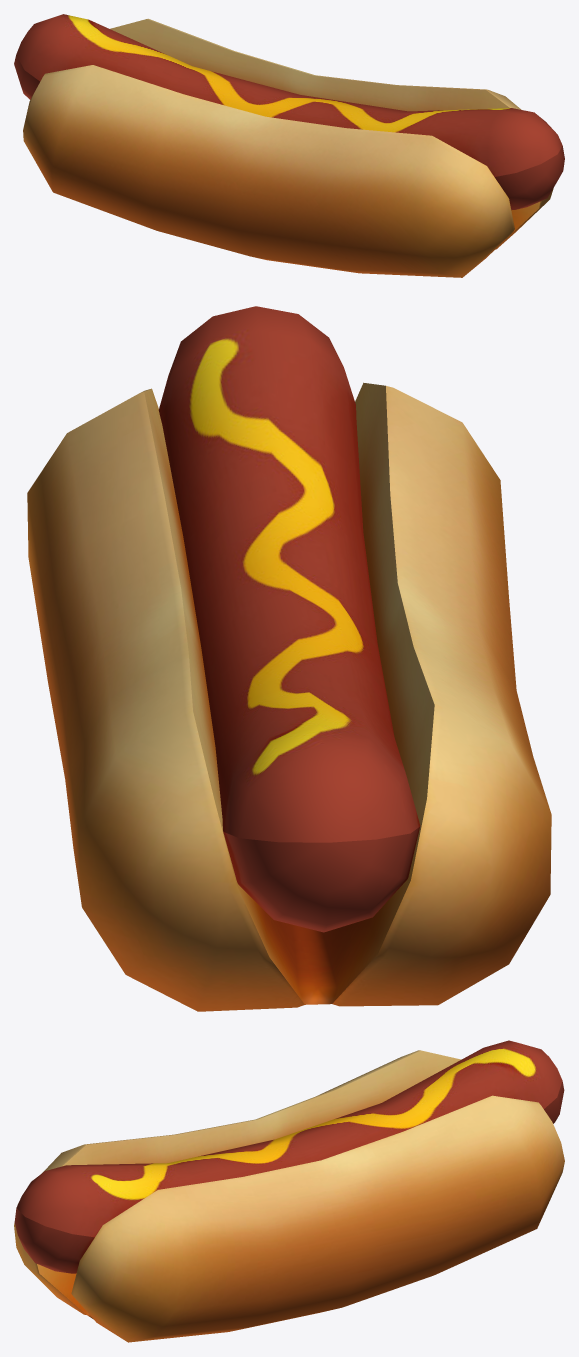
The model's file is Hot Dog.fbx.
3 views of the same model, one above another, from view 1: azimuth 30°, elevation 25°; view 2: azimuth 150°, elevation 25°; view 3: azimuth 270°, elevation 25° (orthographic). The views are drawn at different scales.
Visible parts, largest first — view 1: Hotdog_1; view 2: Hotdog_1; view 3: Hotdog_1.
Part boxes in pixels (box(x1,y1,x2,y2)): Hotdog_1: box(14, 14, 564, 277); Hotdog_1: box(27, 306, 551, 1011); Hotdog_1: box(14, 1040, 564, 1342).
Size of the model in its own units: 43.69 by 19.72 by 53.27.
